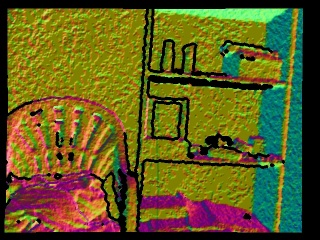station: (144, 97, 190, 161)
